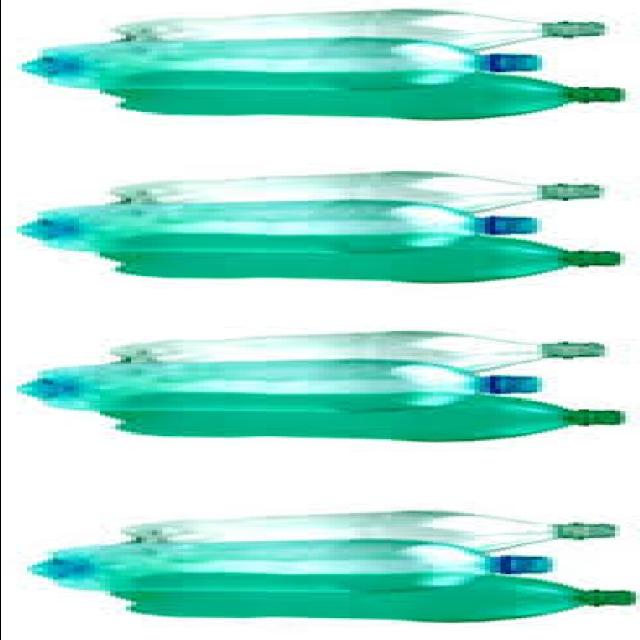no_cap: (6, 201, 81, 250), (20, 359, 84, 410), (28, 543, 91, 590), (22, 40, 79, 90), (100, 15, 181, 48), (465, 210, 544, 242), (108, 336, 192, 363), (88, 250, 168, 278), (105, 520, 199, 543), (99, 594, 188, 616), (539, 17, 622, 40), (561, 406, 640, 430), (476, 52, 550, 77), (92, 412, 176, 434), (106, 179, 181, 203), (102, 90, 172, 114), (550, 520, 622, 542), (479, 374, 547, 397), (540, 342, 603, 366), (559, 245, 624, 268), (579, 586, 640, 608), (544, 182, 611, 202), (562, 88, 625, 108), (496, 555, 550, 576)
